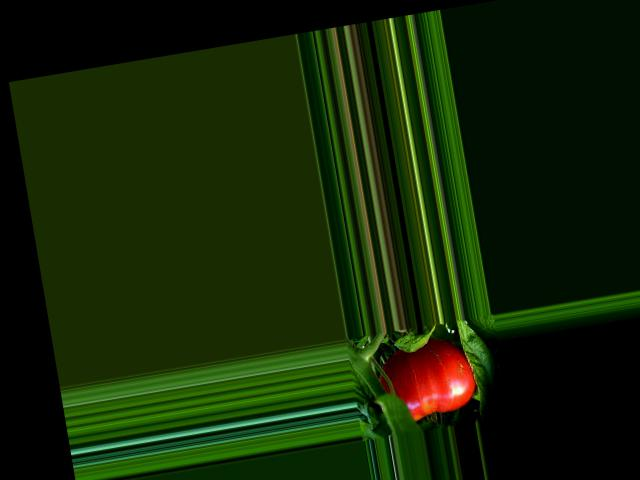tomato: (373, 333, 481, 426)
